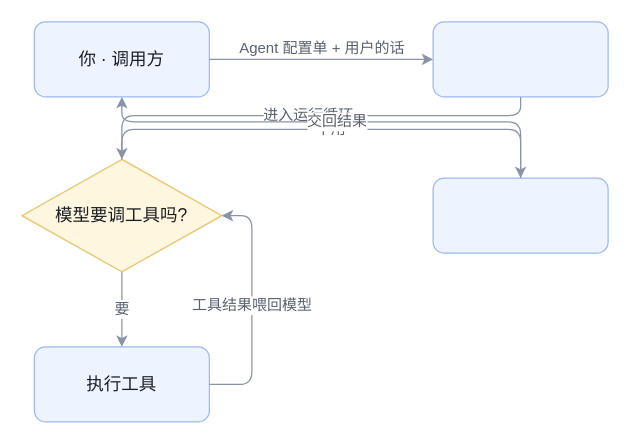
This 630x444 diagram has some shape labels left out. The shapes that lost their labels are listed below. From the top down, each one's centre as x and y in pixels, then its label:
the point at 520,59: Runner 工人
the point at 520,215: Result 交货单 final_output
